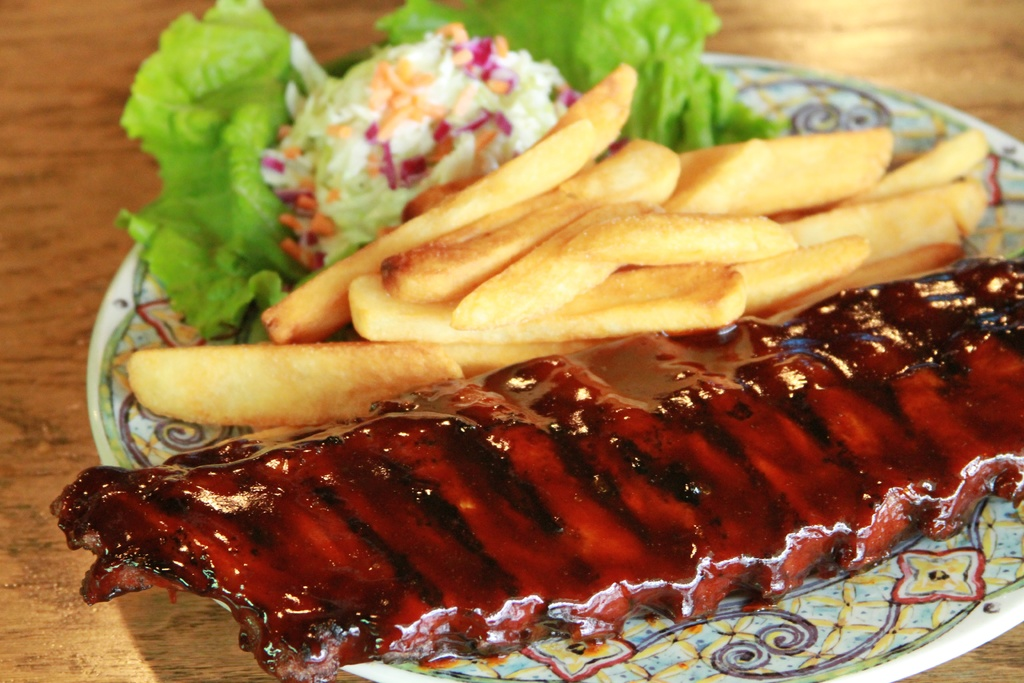French fries: (230, 86, 1006, 392)
